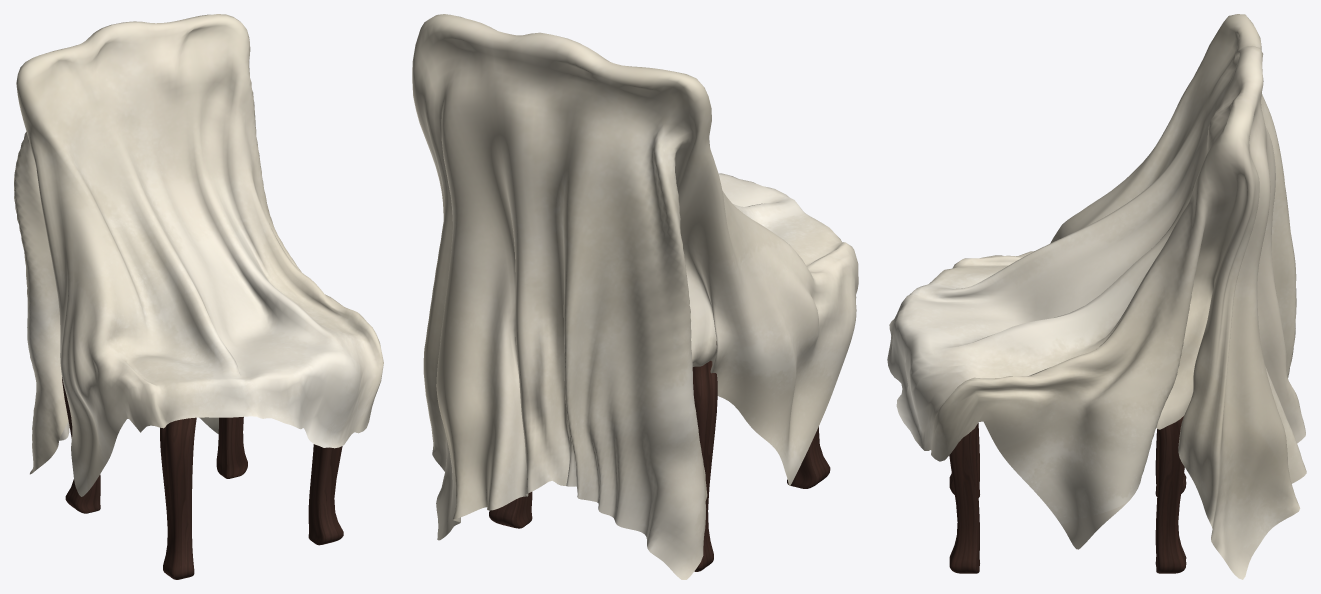
Rendered from cushioned_chair_01.fbx.
The picture shows the model from 3 angles, left to right: view 1: azimuth 30°, elevation 25°; view 2: azimuth 150°, elevation 25°; view 3: azimuth 270°, elevation 25°; orthographic projection. The views are drawn at different scales.
Parts seen in each view (by area): view 1: Grid, Cube.003, Cube, Cube.001, Cube.002; view 2: Grid, Cube.002, Cube.003, Cube.001; view 3: Grid, Cube.001, Cube.
Boxes of the visible parts, <box> form: Grid: <box>14,14,383,496</box>; Cube.003: <box>160,417,196,579</box>; Cube: <box>308,444,343,545</box>; Cube.001: <box>216,417,247,478</box>; Cube.002: <box>62,377,100,513</box>; Grid: <box>412,14,858,579</box>; Cube.002: <box>692,360,717,571</box>; Cube.003: <box>787,426,830,488</box>; Cube.001: <box>489,492,532,528</box>; Grid: <box>887,14,1306,579</box>; Cube.001: <box>1155,416,1186,573</box>; Cube: <box>949,423,979,573</box>.
Size of the model in its own units: 84.68 by 129 by 102.
2 materials, 2 textured.
